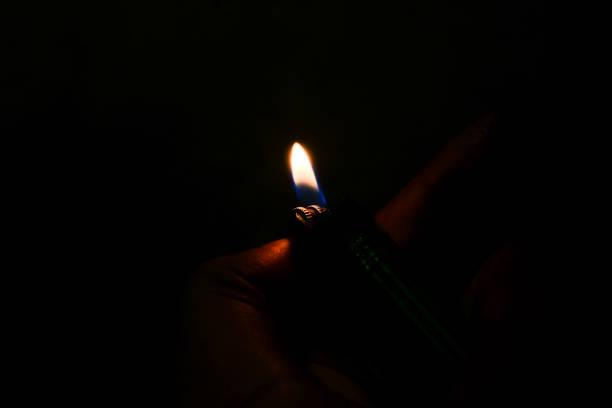Fire: (283, 136, 327, 207)
